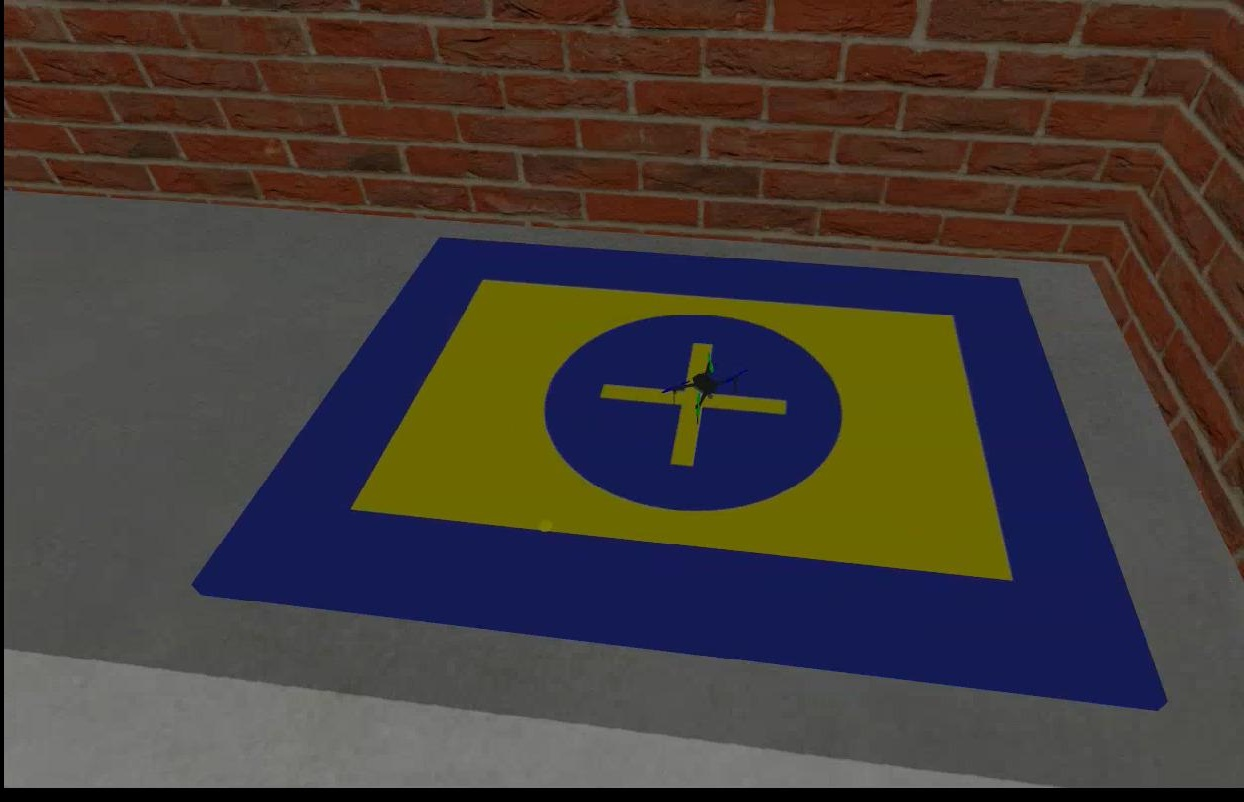large_base: (194, 227, 1169, 713)
